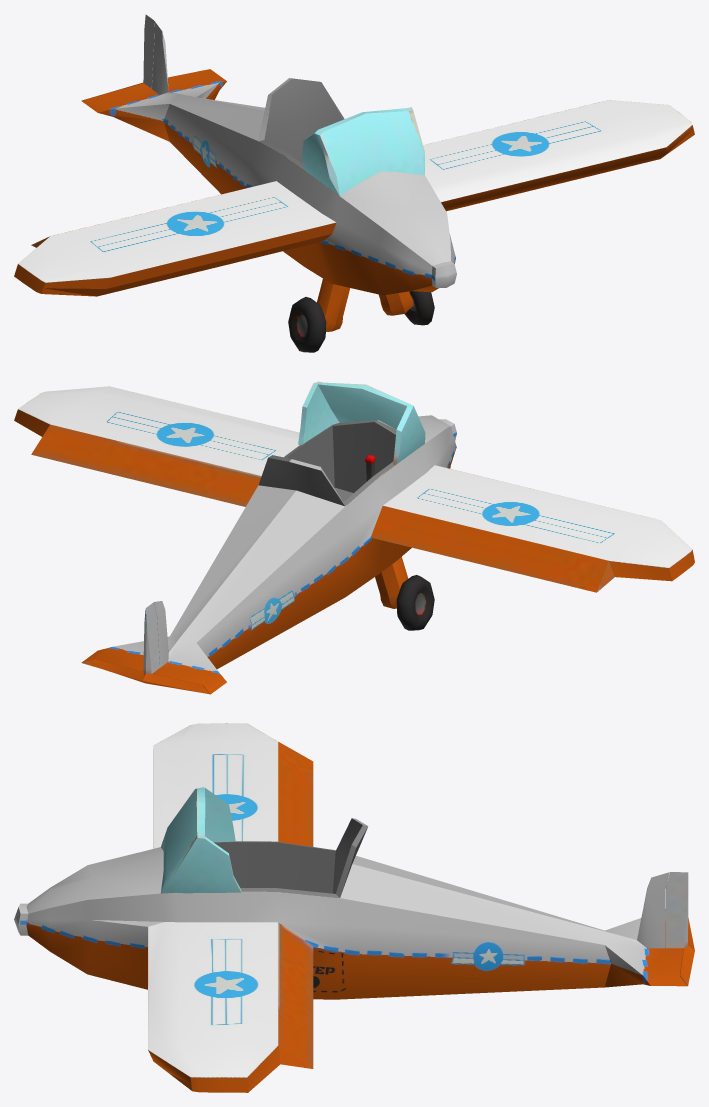
Rendered from airplane.obj.
The picture shows the model from 3 angles, top to bottom: view 1: azimuth 30°, elevation 25°; view 2: azimuth 150°, elevation 25°; view 3: azimuth 270°, elevation 25°; orthographic projection. The views are drawn at different scales.
Parts seen in each view (by area): view 1: Wheels.R_Torus.002; view 2: Wheels.R_Torus.002; view 3: Wheels.R_Torus.002.
Boxes of the visible parts, x1,y1,x2,y2 form: Wheels.R_Torus.002: (14, 14, 694, 352); Wheels.R_Torus.002: (14, 381, 694, 694); Wheels.R_Torus.002: (14, 723, 694, 1092).
Bounding box in the file's own units: 14.55 × 4.82 × 11.7.
